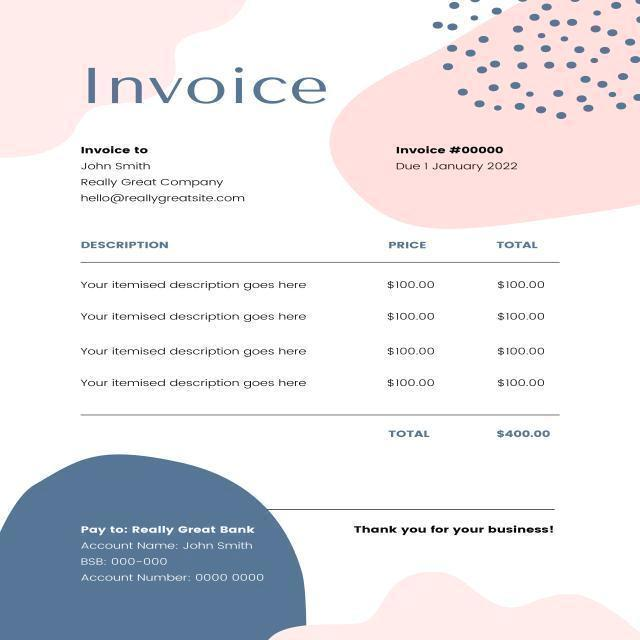paragraph: (48, 507, 273, 599), (66, 129, 282, 217), (64, 57, 338, 116), (353, 511, 562, 548), (377, 414, 569, 454), (367, 139, 546, 179)
table: (66, 227, 582, 406)
